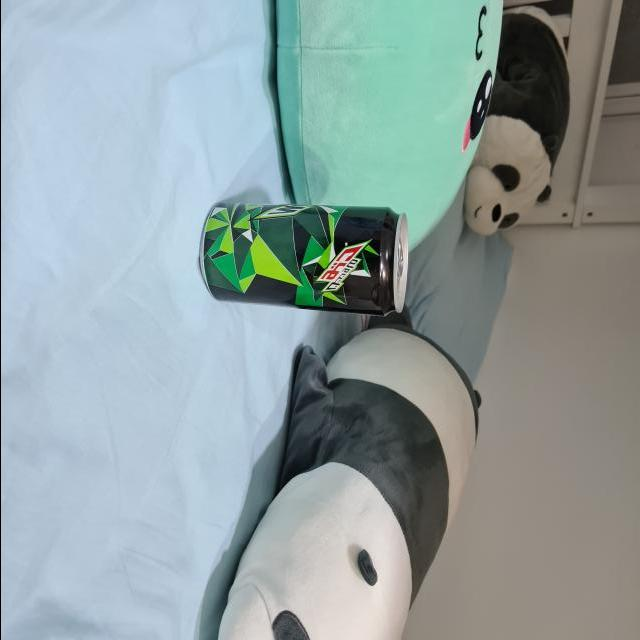can: (204, 204, 406, 316)
